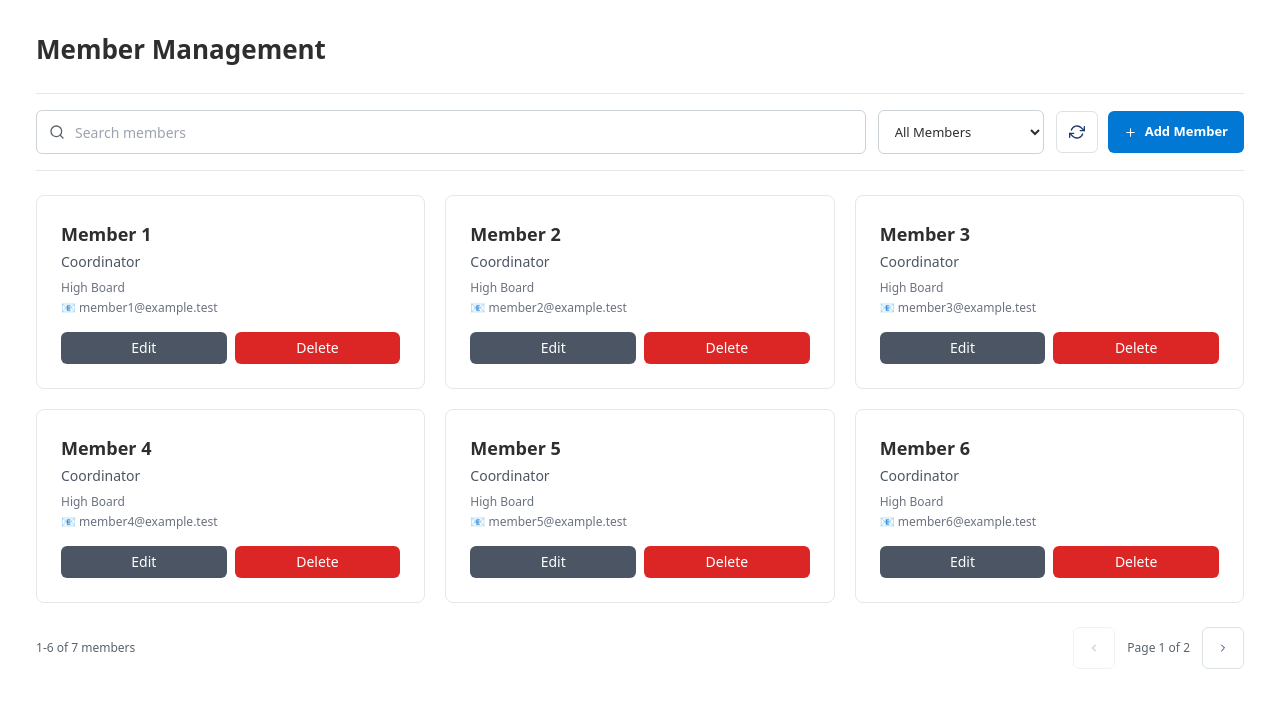
refresh resets pagination when the collection shrinks
The image size is (1280, 720).
Expected: the heading "Member 1" is shown, top-left (61, 222), bottom-right (152, 246)
Click the button named "Next page" at coordinates (1223, 648), box top-left (1202, 627), bottom-right (1244, 669)
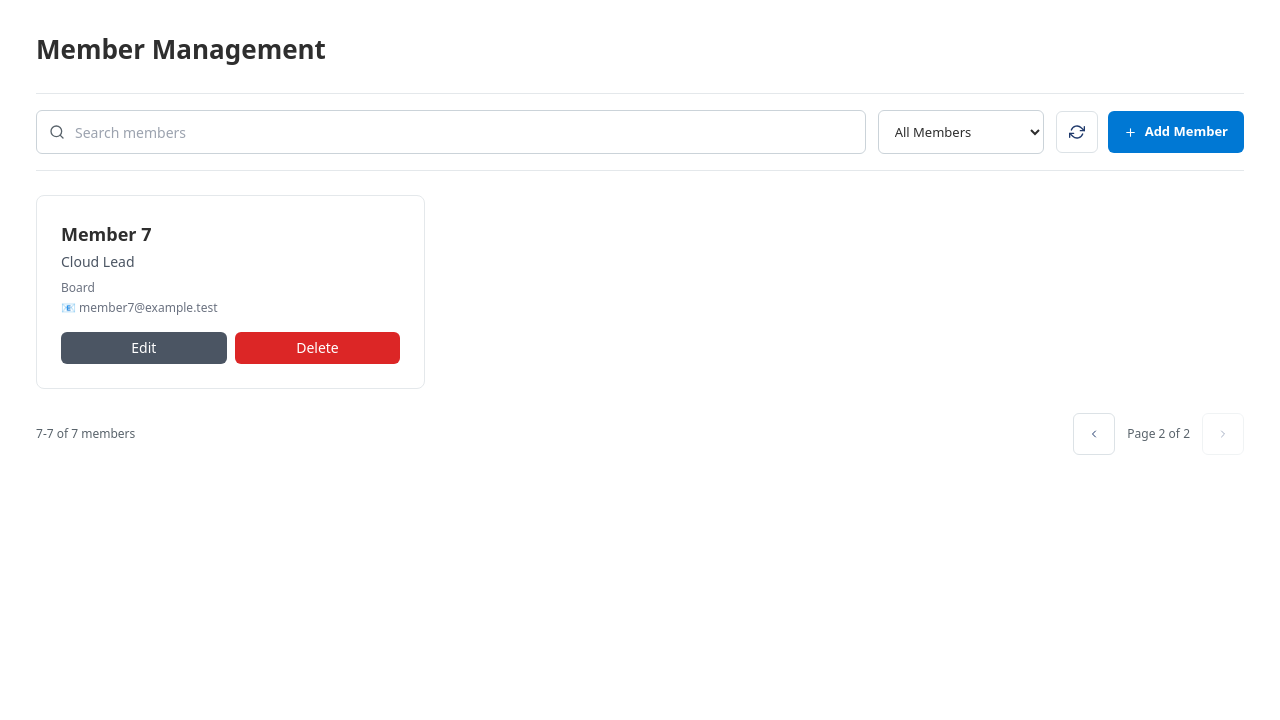
Click the button named "Refresh members" at coordinates (1077, 132), box top-left (1056, 111), bottom-right (1098, 153)
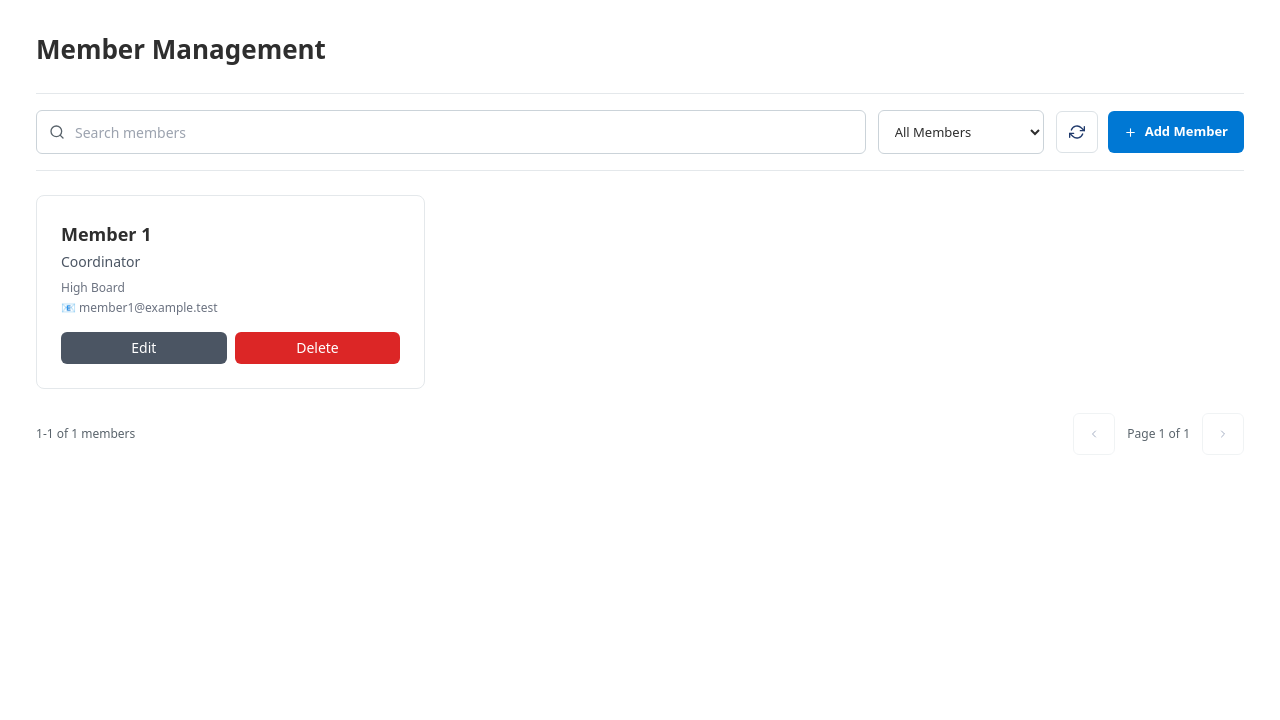
Expected: the button named "Previous page" is disabled, top-left (1073, 413), bottom-right (1115, 455)
Expected: the text "1-1 of 1 members" is shown, top-left (36, 425), bottom-right (135, 443)
